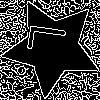L: (27, 22, 76, 56)
